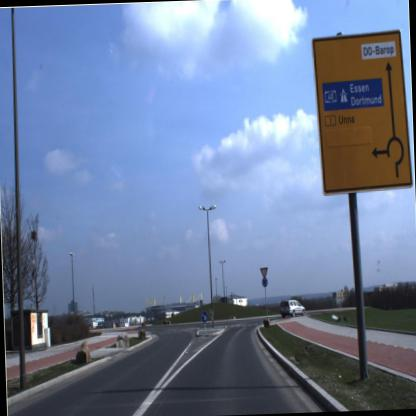mandatory: (198, 310, 209, 324), (260, 276, 268, 290)
other: (258, 264, 271, 280)
